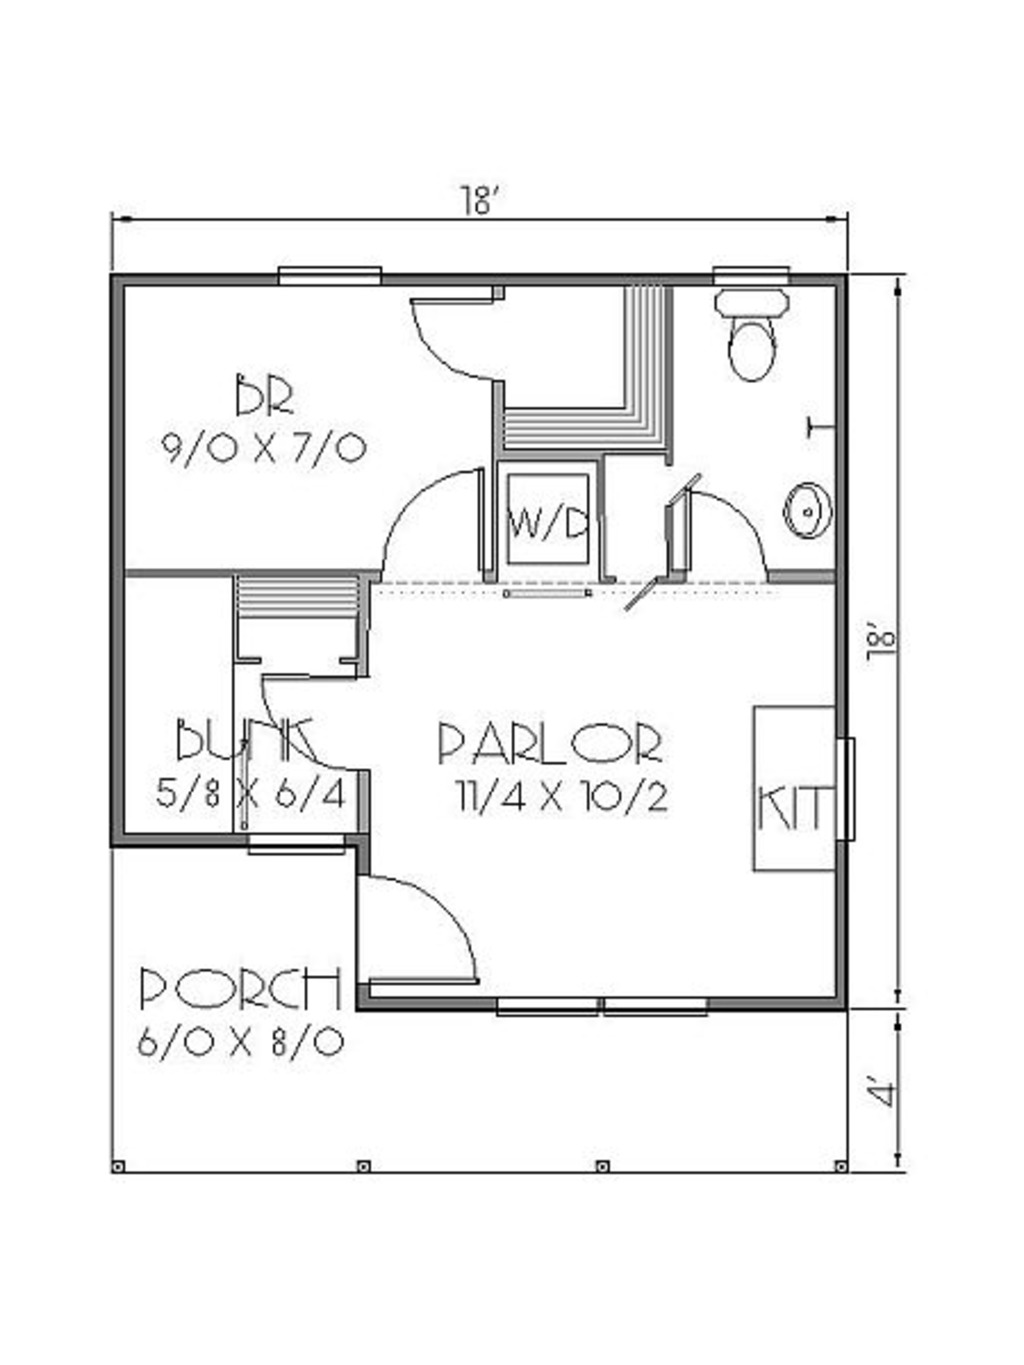door: (369, 463, 492, 594), (359, 869, 486, 984), (675, 465, 773, 596), (261, 676, 373, 773), (396, 286, 507, 384)
large_sink: (701, 288, 796, 402)
small_sink: (769, 436, 838, 569)
window: (255, 815, 351, 865), (498, 984, 607, 1021), (603, 989, 715, 1023), (278, 261, 388, 292)
